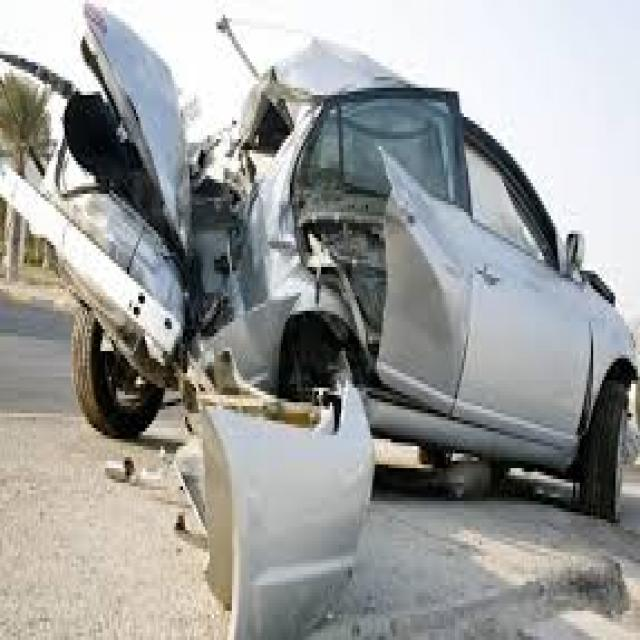severe: (28, 23, 419, 611)
